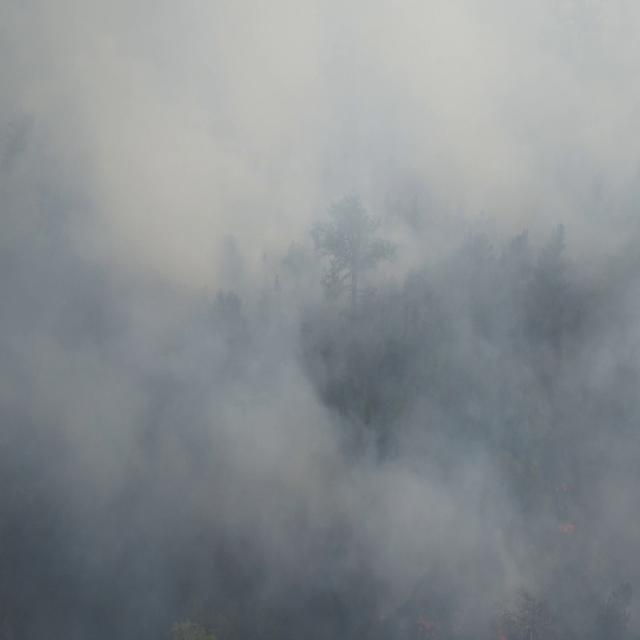fire: (413, 616, 442, 640), (556, 522, 579, 538), (496, 632, 510, 640)
smoke: (0, 0, 640, 640)
